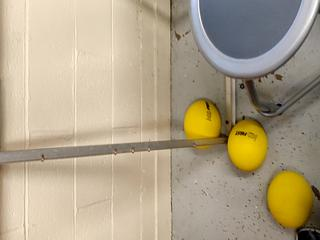power_cell: (265, 170, 316, 230), (181, 99, 225, 149), (225, 119, 269, 169)
